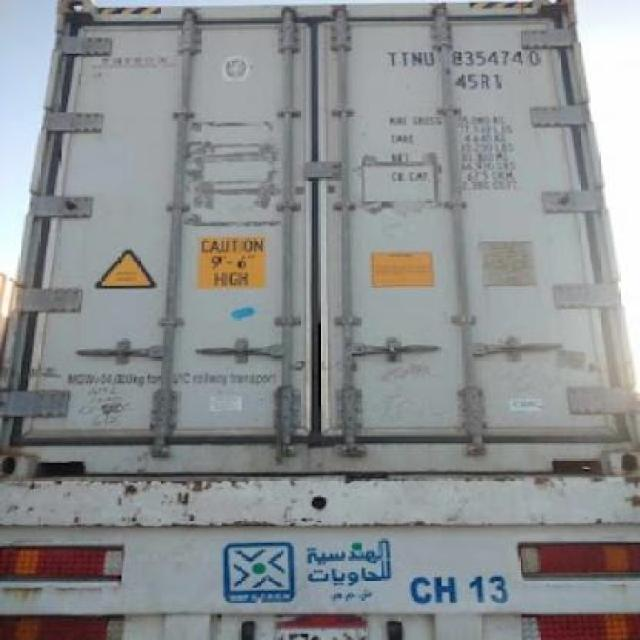ISO: (456, 71, 502, 94)
container_number: (383, 50, 544, 69)
